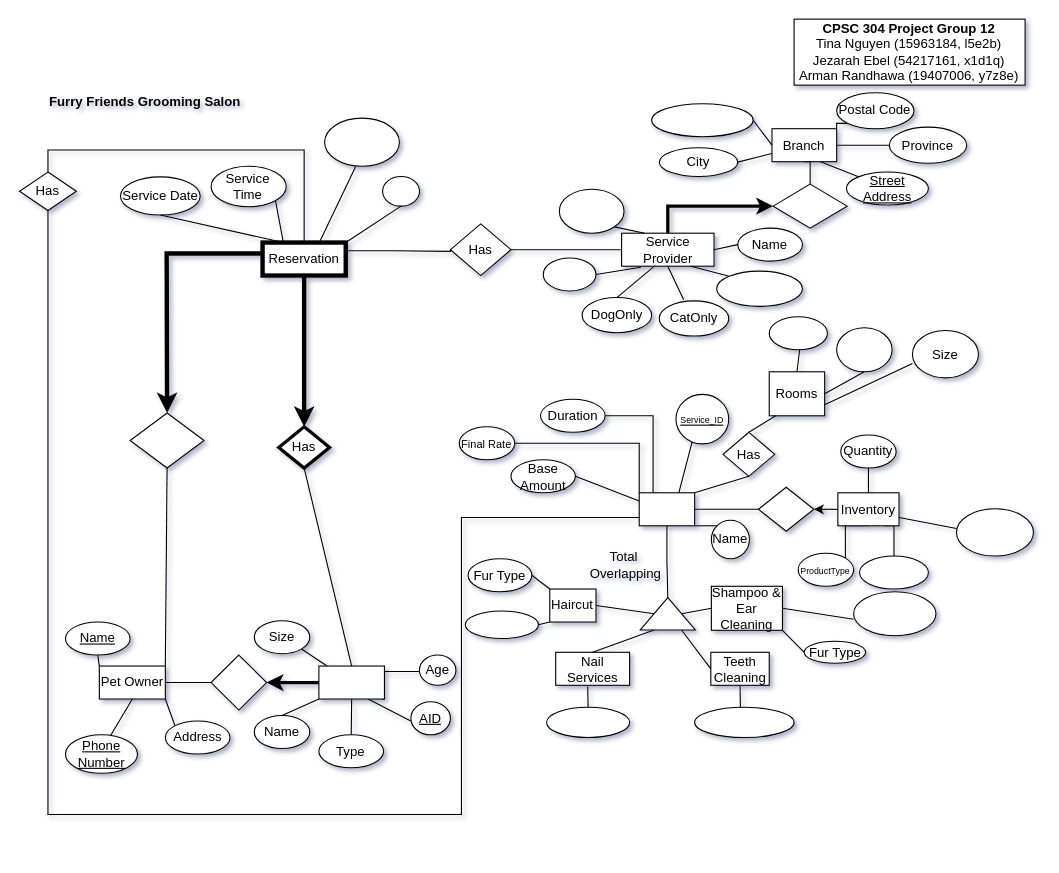
This 1059x873 diagram has some shape labels left out. The shapes that lost their labels are listed below. From the top down, each one's centre as x and y in pixels, then its label:
[702,120]: Hours of Operation
[361,141]: DateTime Booked
[400,190]: RID
[591,210]: Work Schedule
[809,205]: Employs
[569,274]: SIN
[759,288]: DogAndCat
[797,333]: Room Type
[864,349]: Room Number
[166,440]: Books
[666,509]: Services
[785,508]: Use
[994,532]: ProductName
[893,572]: Product Code
[501,624]: Fur Length
[667,613]: IsA
[894,613]: Cleanliness Level
[238,682]: Owns
[351,682]: Pet
[587,722]: Sensitivity
[744,722]: Dental Condition
